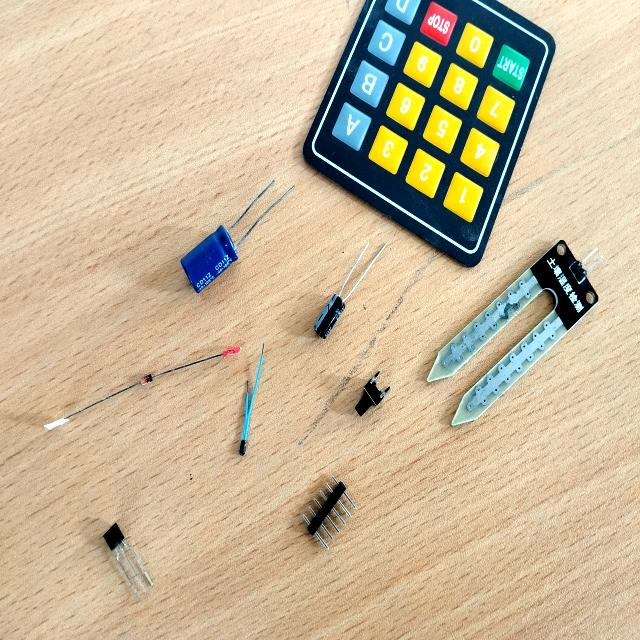capacitor: (182, 229, 236, 290), (317, 297, 345, 338)
